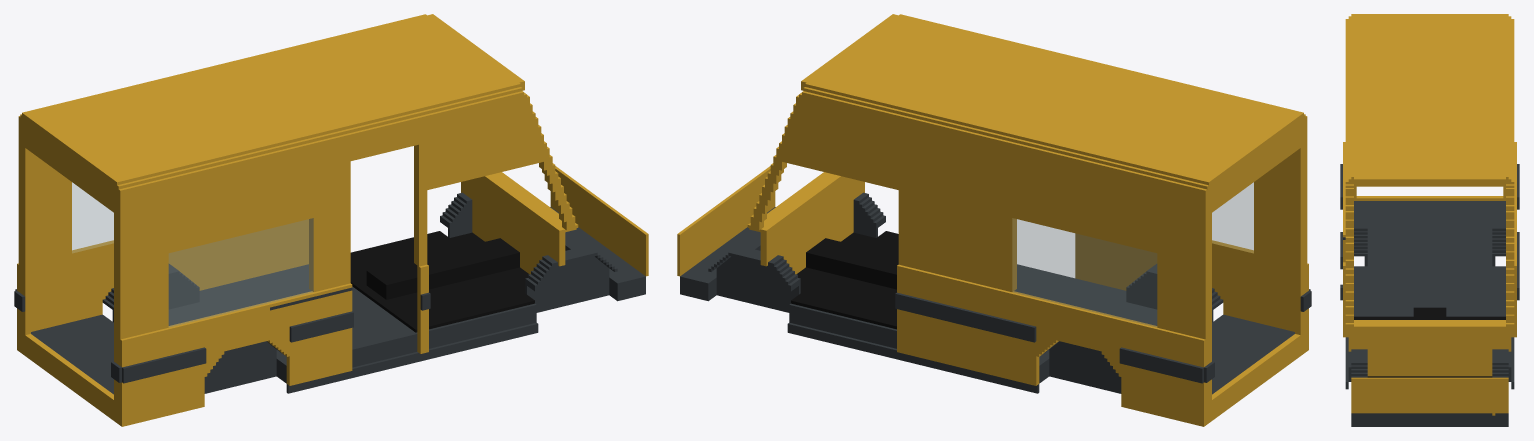
The model's file is food_truck_shell.glb.
The picture shows the model from 3 angles, left to right: view 1: azimuth 30°, elevation 25°; view 2: azimuth 150°, elevation 25°; view 3: azimuth 270°, elevation 25°; orthographic projection. The views are drawn at different scales.
Parts seen in each view (by area): view 1: body:compound; view 2: body:compound; view 3: body:compound.
Part boxes in pixels (<box>): body:compound: <box>14,14,648,426</box>; body:compound: <box>677,14,1311,426</box>; body:compound: <box>1340,14,1519,426</box>.
Bounding box in the file's own units: 5.88 × 2.62 × 2.06.
